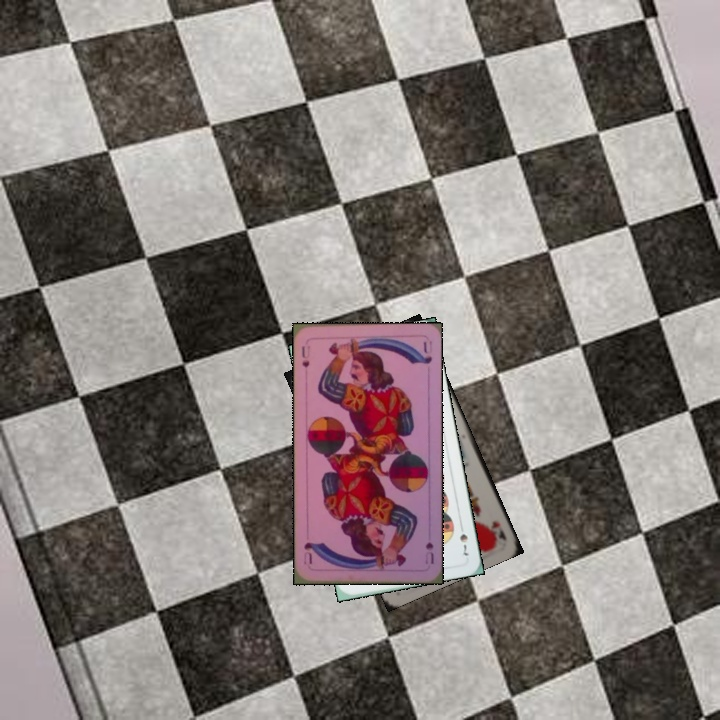HK: (486, 517, 509, 543)
S7: (455, 519, 471, 559)
SU: (421, 538, 436, 566), (298, 342, 313, 370)
